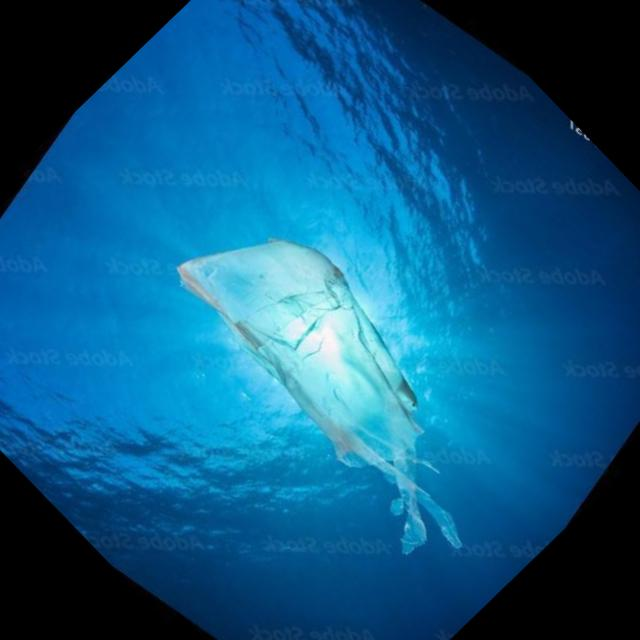KantongPlastik: (148, 183, 541, 582)
